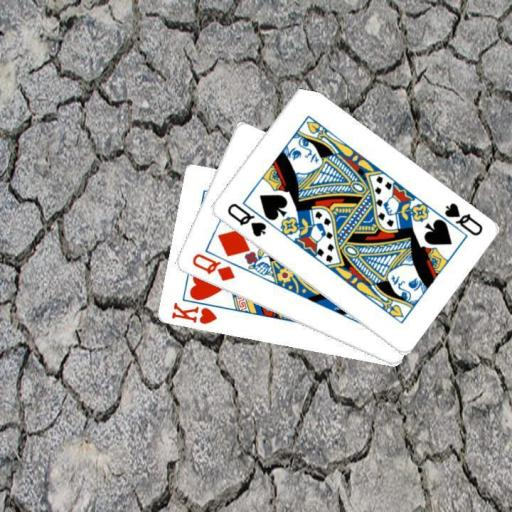card-corner: (224, 200, 268, 239), (440, 199, 484, 238), (189, 250, 236, 283), (168, 300, 218, 326)
